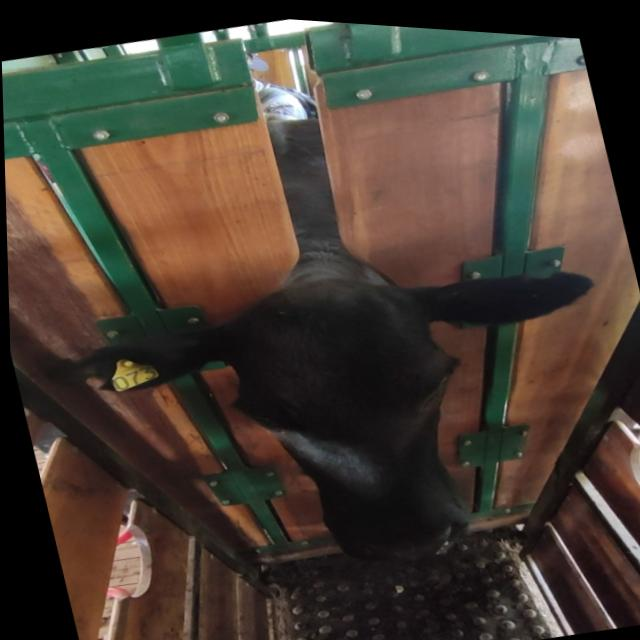cowFace: (205, 246, 499, 592)
